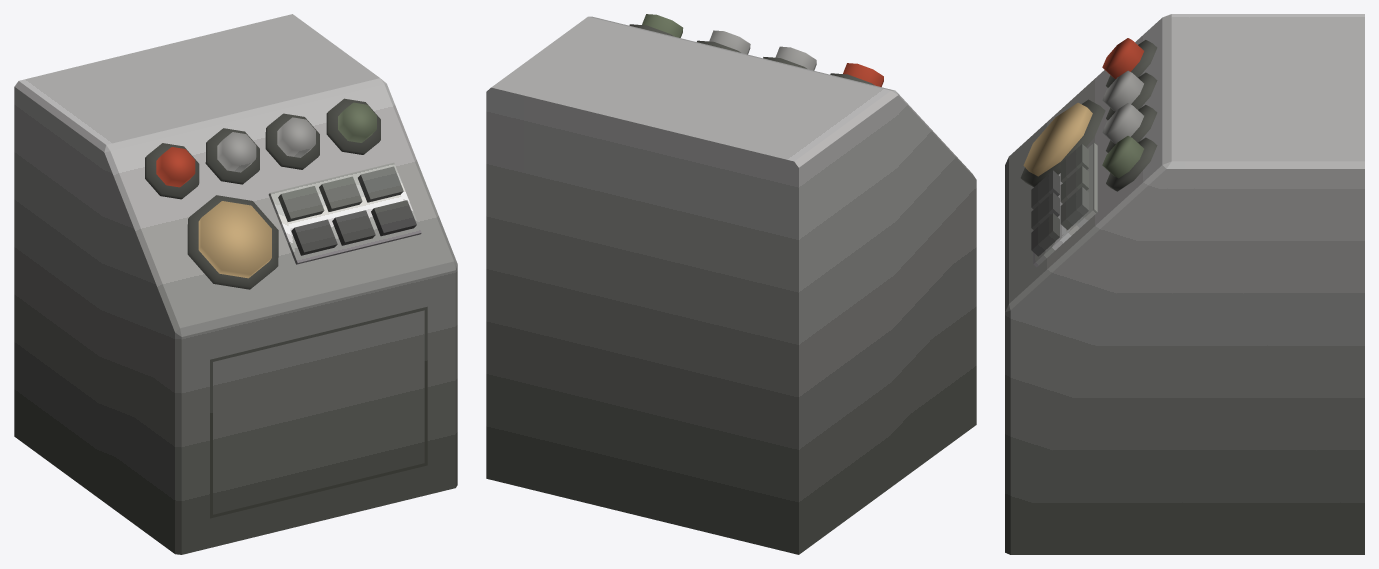
The model's file is DL_Obj_Level3_MachineryPanelShort3.fbx.
3 views of the same model, side by side, from view 1: azimuth 30°, elevation 25°; view 2: azimuth 150°, elevation 25°; view 3: azimuth 270°, elevation 25° (orthographic). The views are drawn at different scales.
Parts seen in each view (by area): view 1: Level3_MachineryPanelShort3; view 2: Level3_MachineryPanelShort3; view 3: Level3_MachineryPanelShort3.
Boxes of the visible parts, x1,y1,x2,y2 form: Level3_MachineryPanelShort3: [14, 14, 457, 554]; Level3_MachineryPanelShort3: [486, 14, 976, 554]; Level3_MachineryPanelShort3: [1005, 14, 1364, 554].
Bounding box in the file's own units: 100 × 120 × 100.
